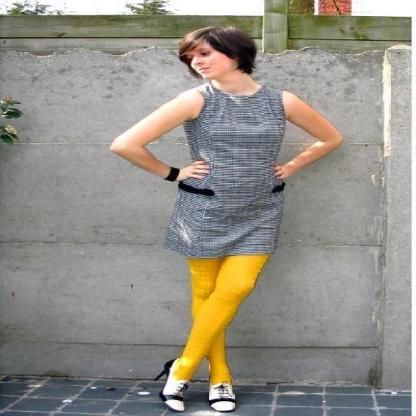dress: (158, 87, 293, 260)
shoe: (151, 358, 236, 410)
